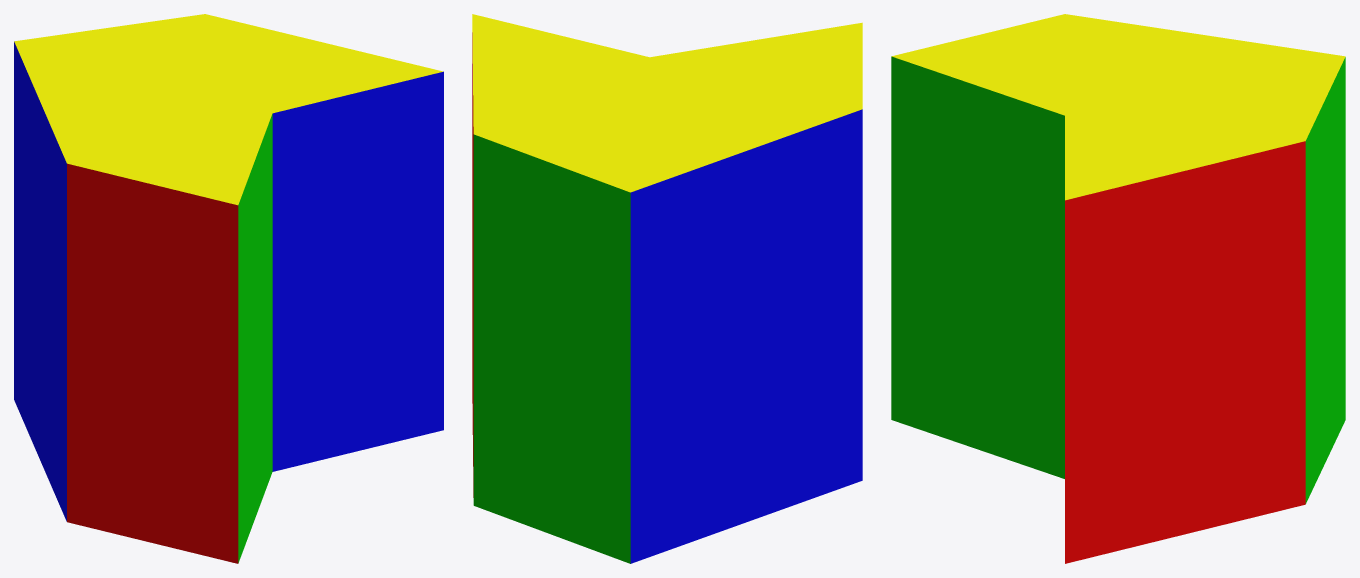
File: 6prism_final.DAE
The picture shows the model from 3 angles, left to right: view 1: azimuth 30°, elevation 25°; view 2: azimuth 150°, elevation 25°; view 3: azimuth 270°, elevation 25°; orthographic projection. The views are drawn at different scales.
Visible parts, largest first — view 1: Cylinder002; view 2: Cylinder002; view 3: Cylinder002.
Part boxes in pixels (left/top/right/bottom): Cylinder002: left=14, top=14, right=443, bottom=563; Cylinder002: left=472, top=14, right=862, bottom=563; Cylinder002: left=891, top=14, right=1345, bottom=563.
Size of the model in its own units: 550 by 567 by 500.
